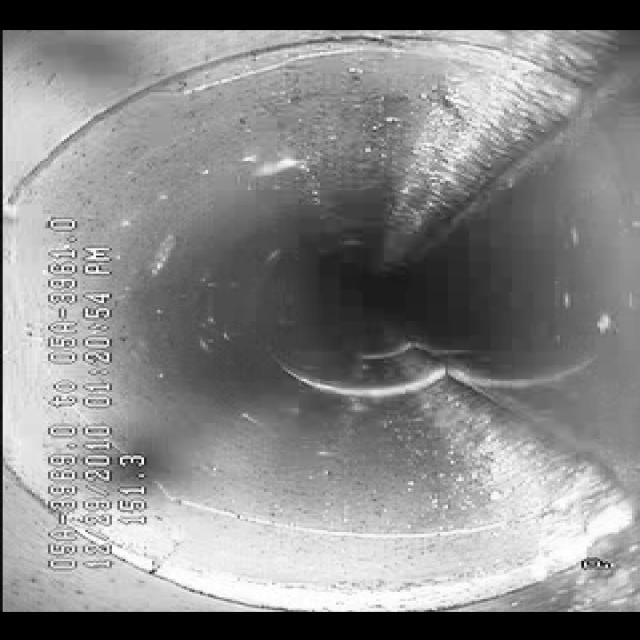Crack: (162, 478, 562, 548)
